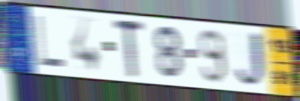4: (72, 16, 103, 74)
8: (154, 24, 185, 80)
9: (198, 28, 227, 84)
J: (233, 29, 270, 90)
L: (33, 14, 66, 70)
T: (113, 19, 146, 80)
